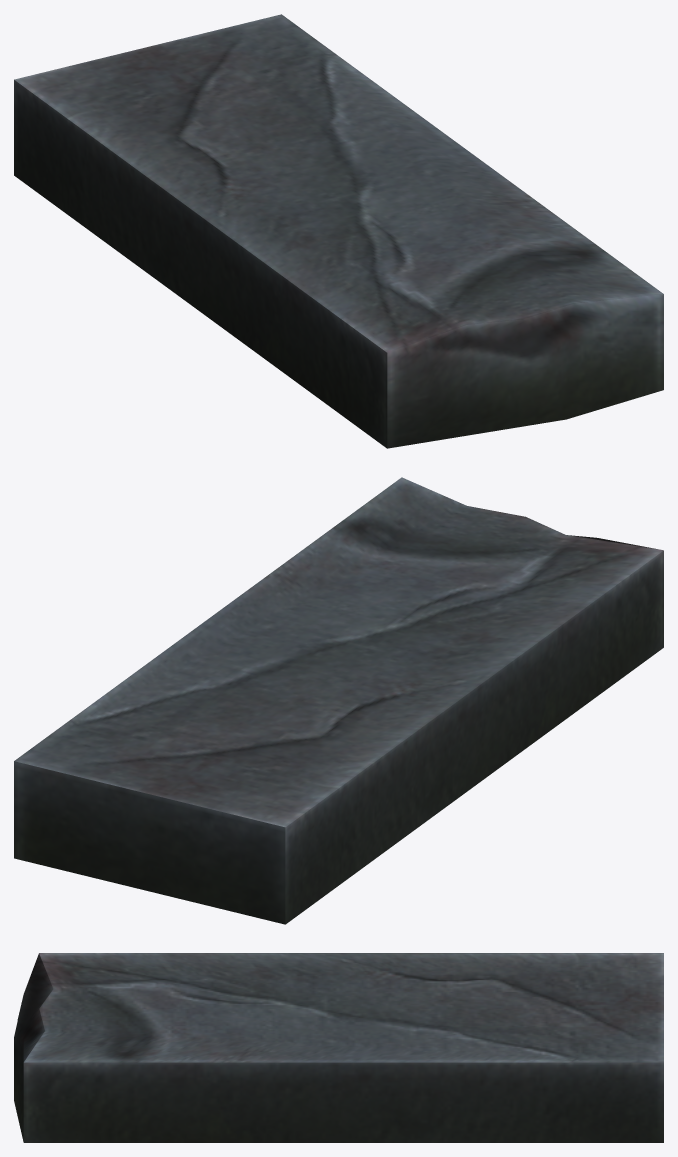
Rendered from B_shizhuan002.fbx.
The picture shows the model from 3 angles, top to bottom: view 1: azimuth 30°, elevation 25°; view 2: azimuth 150°, elevation 25°; view 3: azimuth 270°, elevation 25°; orthographic projection. The views are drawn at different scales.
Visible parts, largest first — view 1: B_shizhuan002; view 2: B_shizhuan002; view 3: B_shizhuan002.
Part boxes in pixels (x1=…): B_shizhuan002: x1=14, y1=14, x2=663, y2=448; B_shizhuan002: x1=14, y1=477, x2=663, y2=924; B_shizhuan002: x1=14, y1=953, x2=663, y2=1142.
Size of the model in its own units: 52.73 by 18.05 by 132.
